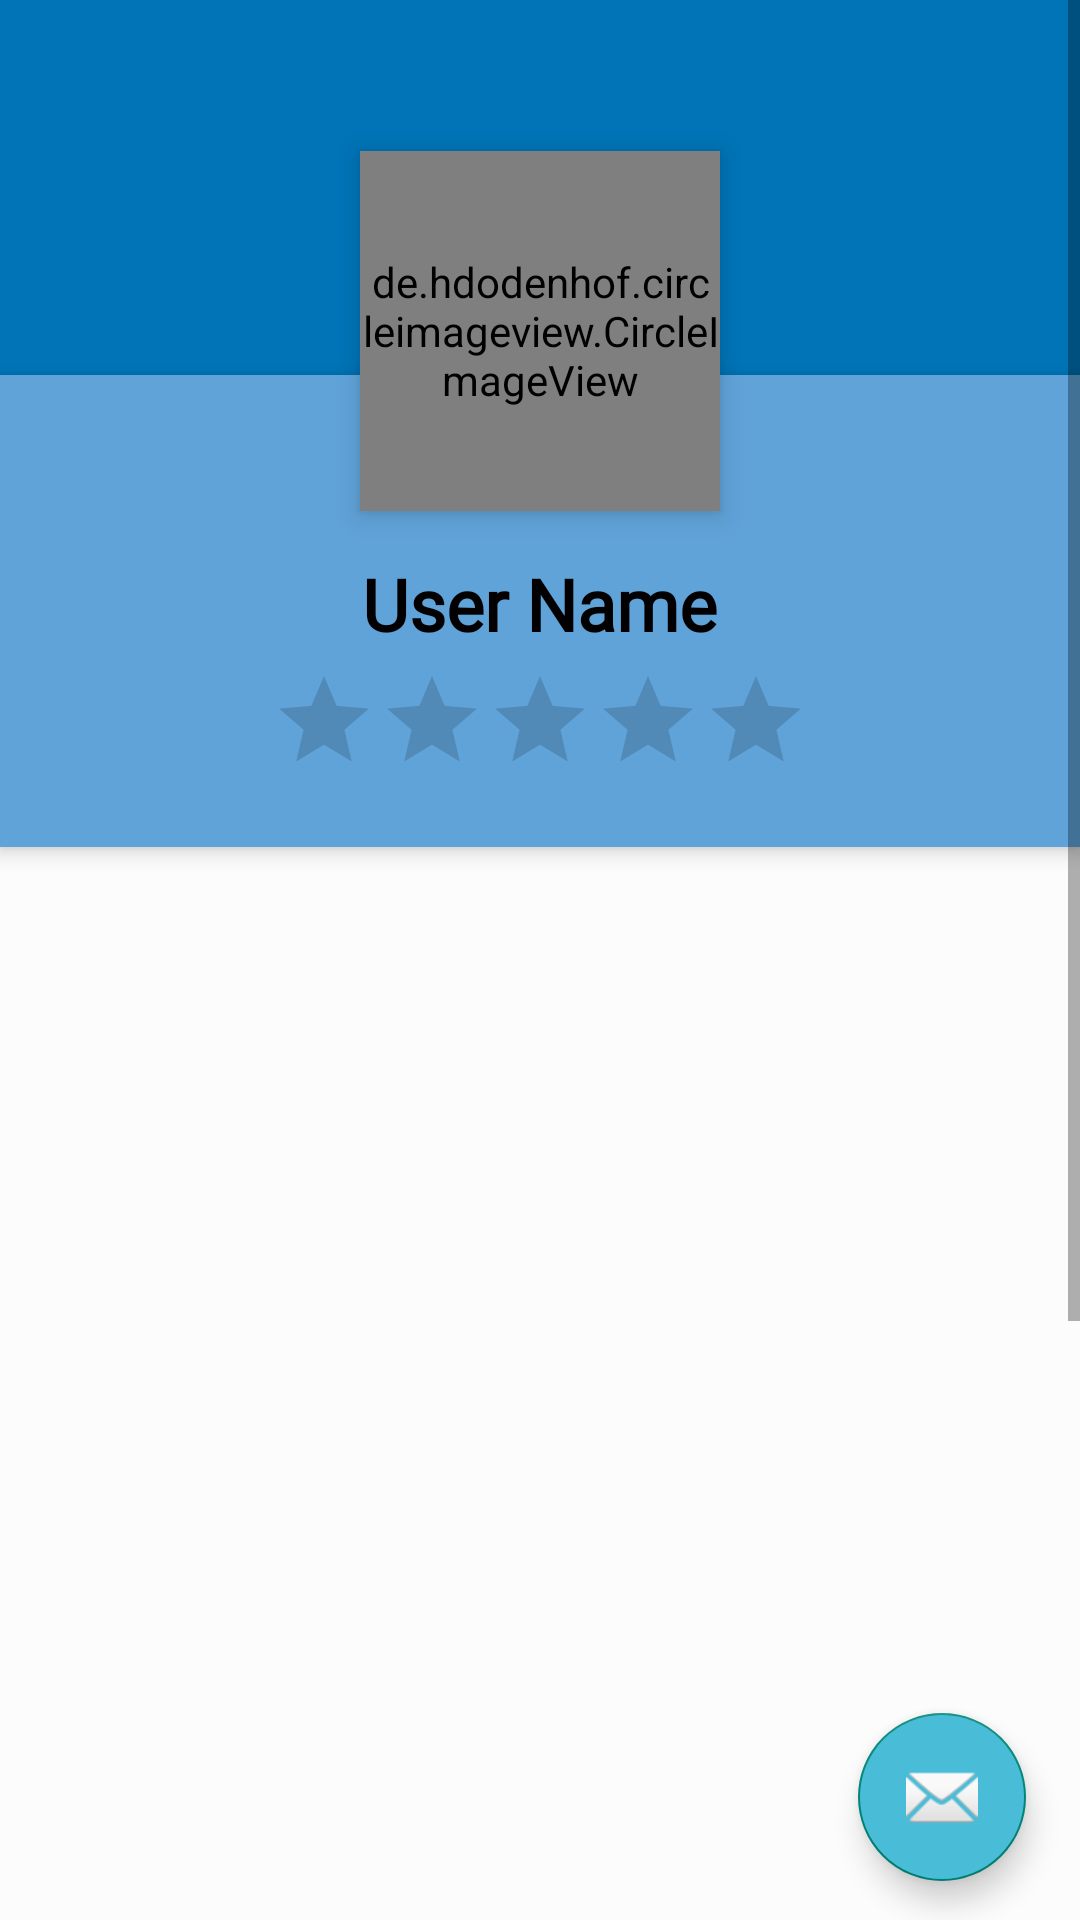

Icon click points for this 1080px x 1920px phone screenshot, format (x=x, y=y):
email: (x=942, y=1797)
